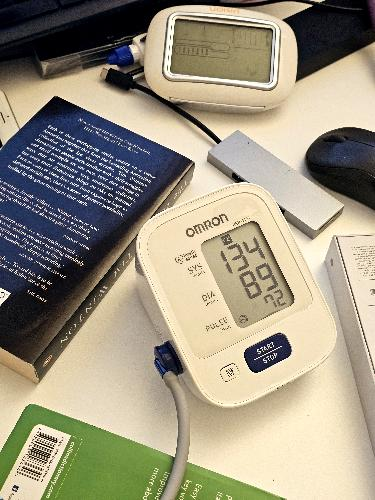bpm: (197, 215, 297, 331)
